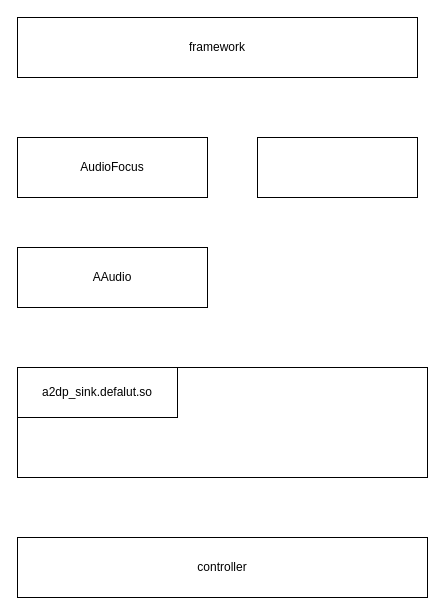
The diagram is 445 pixels wide and 615 high, and some of its shapes have lost their labels. Each missing label, with the box of its shape:
BluetoothService. A2dpSinkStreamHandler: (256, 136, 418, 198)
libbrtsdk.so c native: (16, 366, 428, 478)
